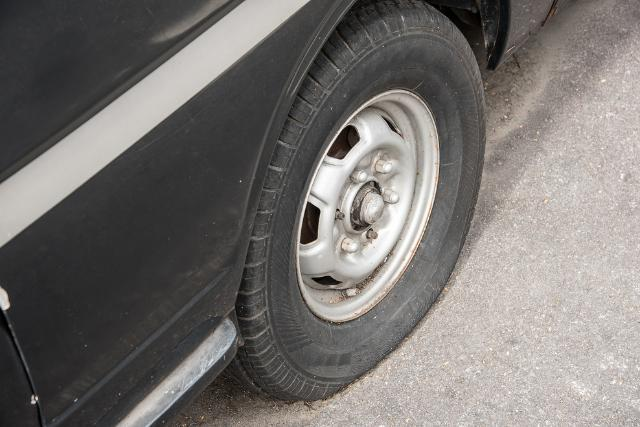Door: (61, 298, 287, 427)
